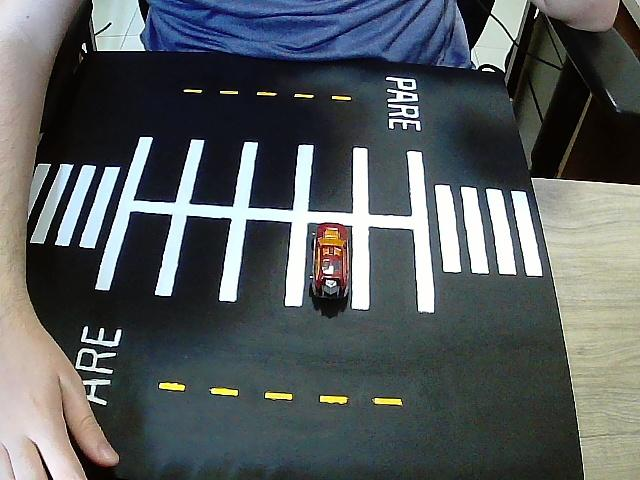Carro: (310, 224, 352, 300)
